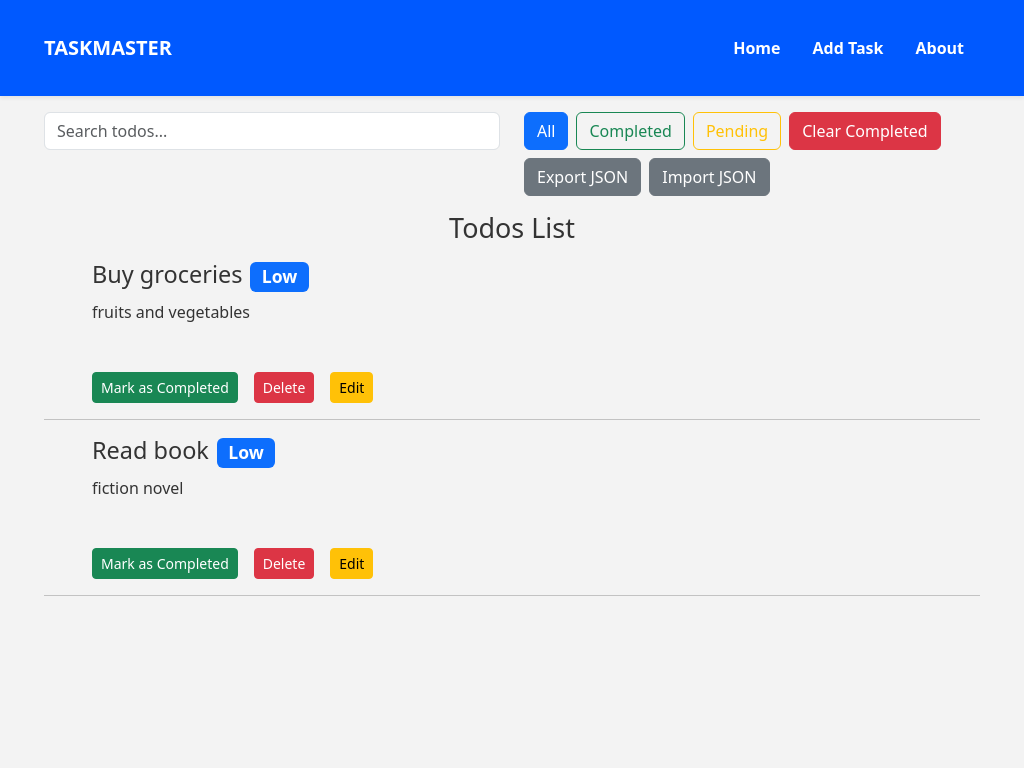
Test: App – Search › filters todos by title
Type "groceries" into the field with placeholder "Search todos..." at (272, 131), box [44,112,500,150]
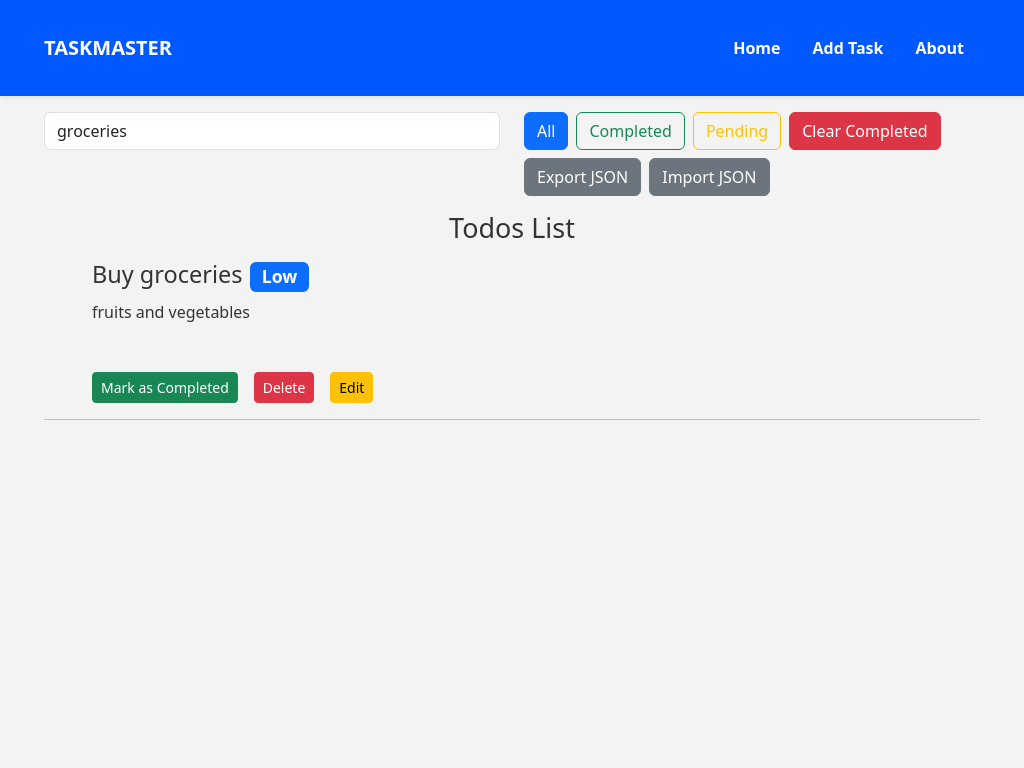
Expected: the heading "Buy groceries Low" is shown, [92,258,309,292]
Result: the heading "Read book" is gone
